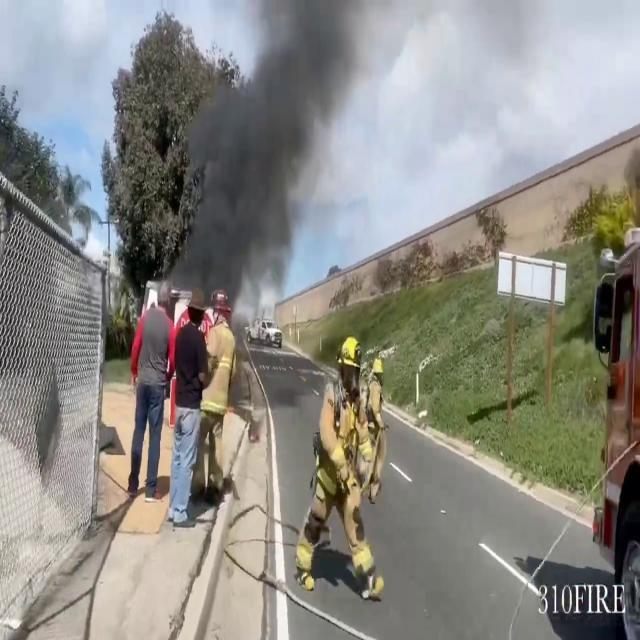Smoke: (184, 0, 373, 292)
